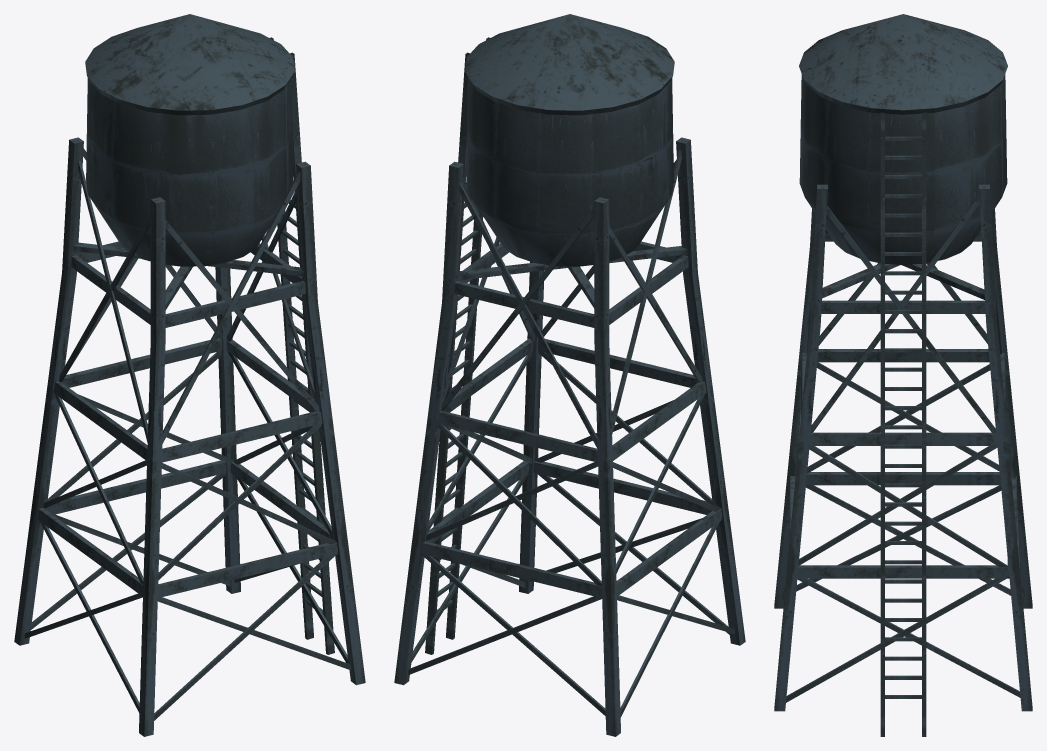
Rendered from Silo_Mesh.fbx.
3 views of the same model, side by side, from view 1: azimuth 30°, elevation 25°; view 2: azimuth 150°, elevation 25°; view 3: azimuth 270°, elevation 25° (orthographic).
Parts seen in each view (by area): view 1: Silo_Mesh; view 2: Silo_Mesh; view 3: Silo_Mesh.
Part boxes in pixels (box(x1,y1,x2,y2)): Silo_Mesh: box(14, 14, 365, 736); Silo_Mesh: box(394, 14, 745, 736); Silo_Mesh: box(774, 14, 1032, 736).
Bounding box in the file's own units: 6.78 × 17.62 × 6.25.
